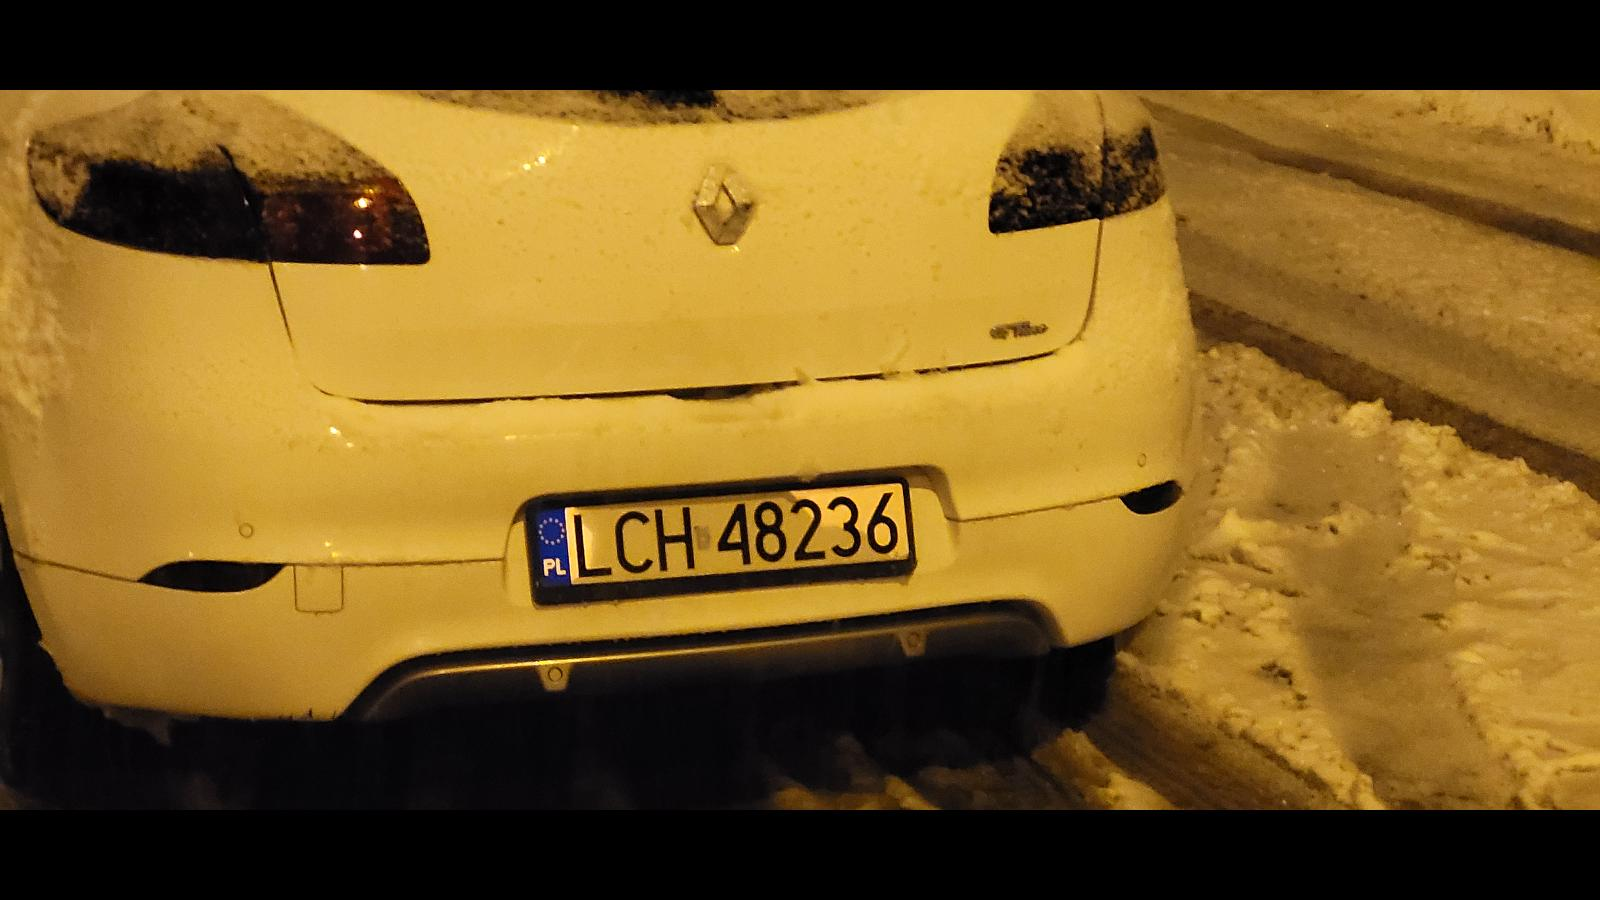plates: (527, 477, 917, 606)
